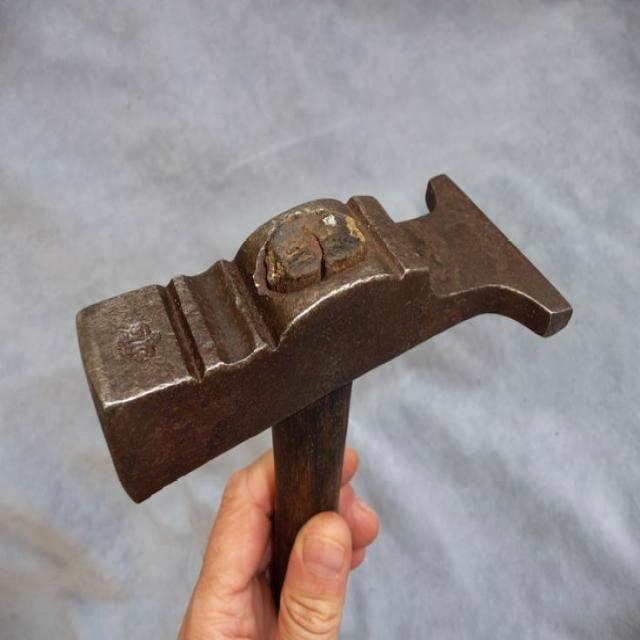hammer: (70, 168, 576, 640)
